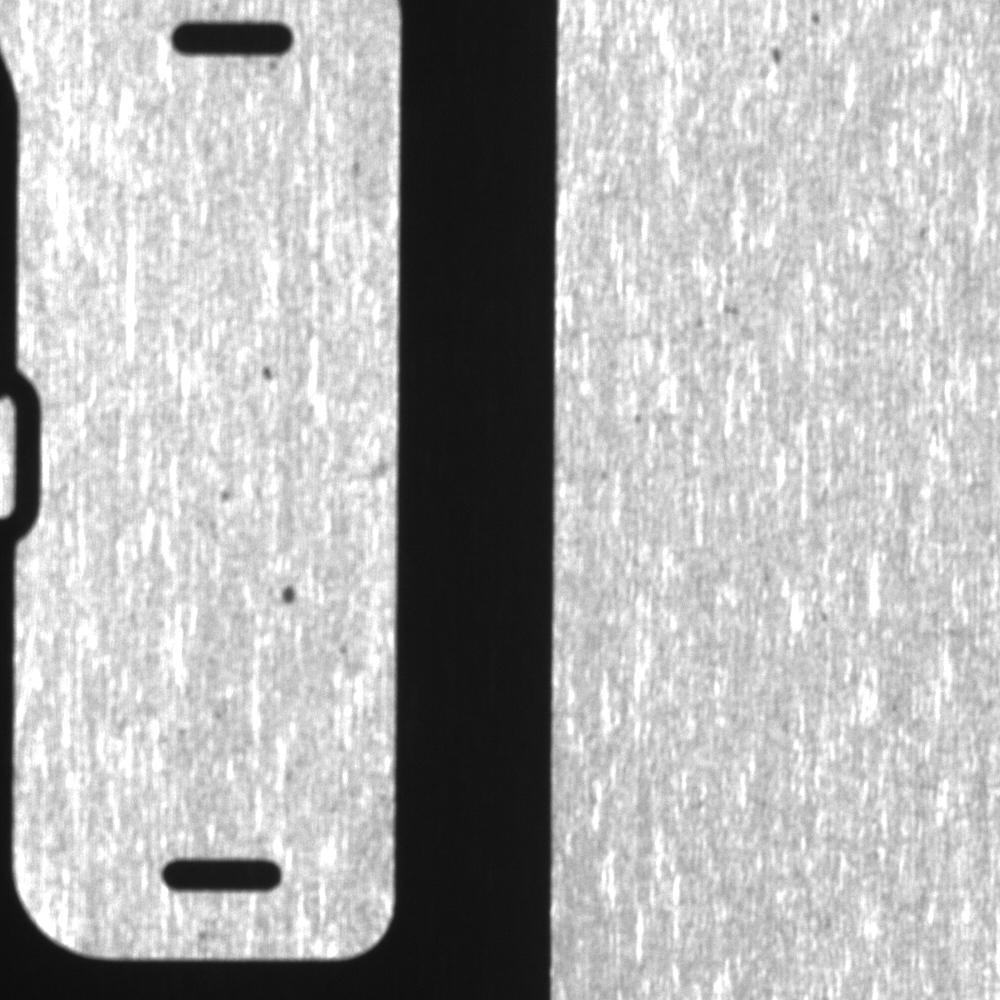Etching: (241, 346, 298, 397), (685, 297, 743, 333), (758, 20, 794, 73)
Pinhole: (247, 558, 324, 627), (204, 469, 241, 513), (804, 1, 837, 35)
